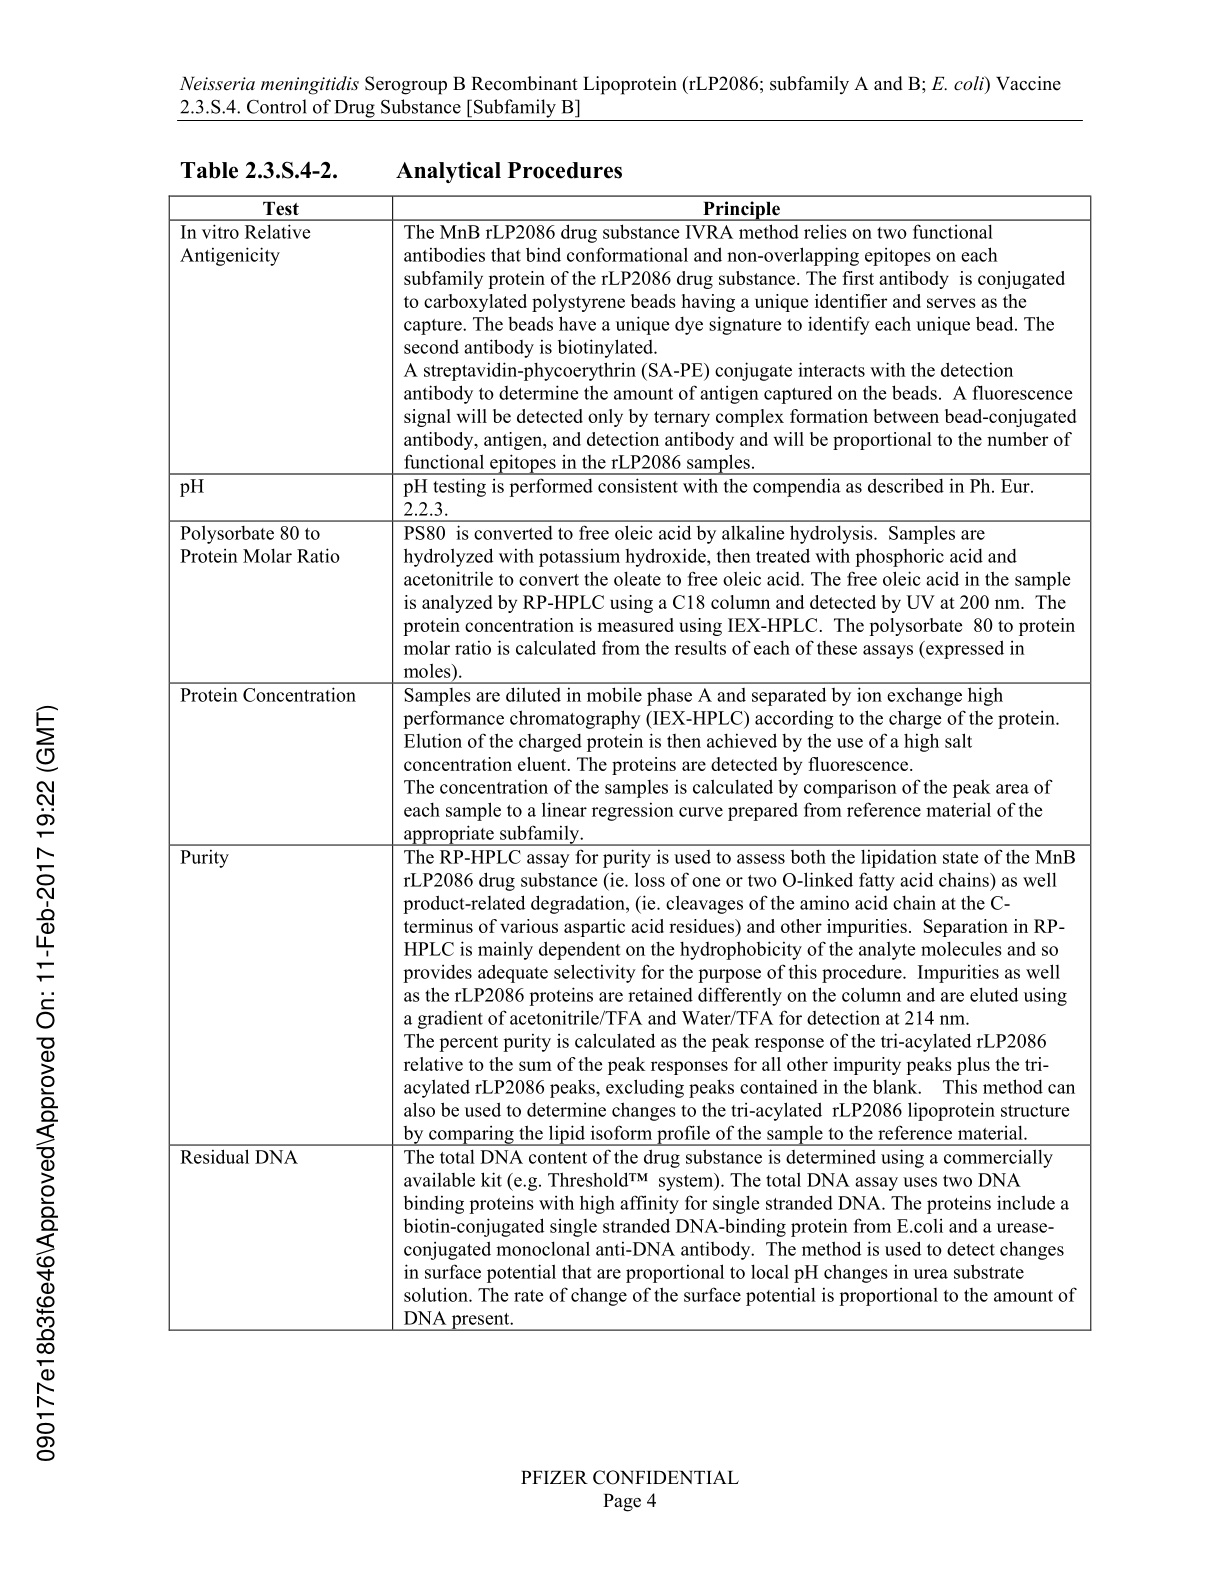full_lined: (168, 195, 1092, 1332)
